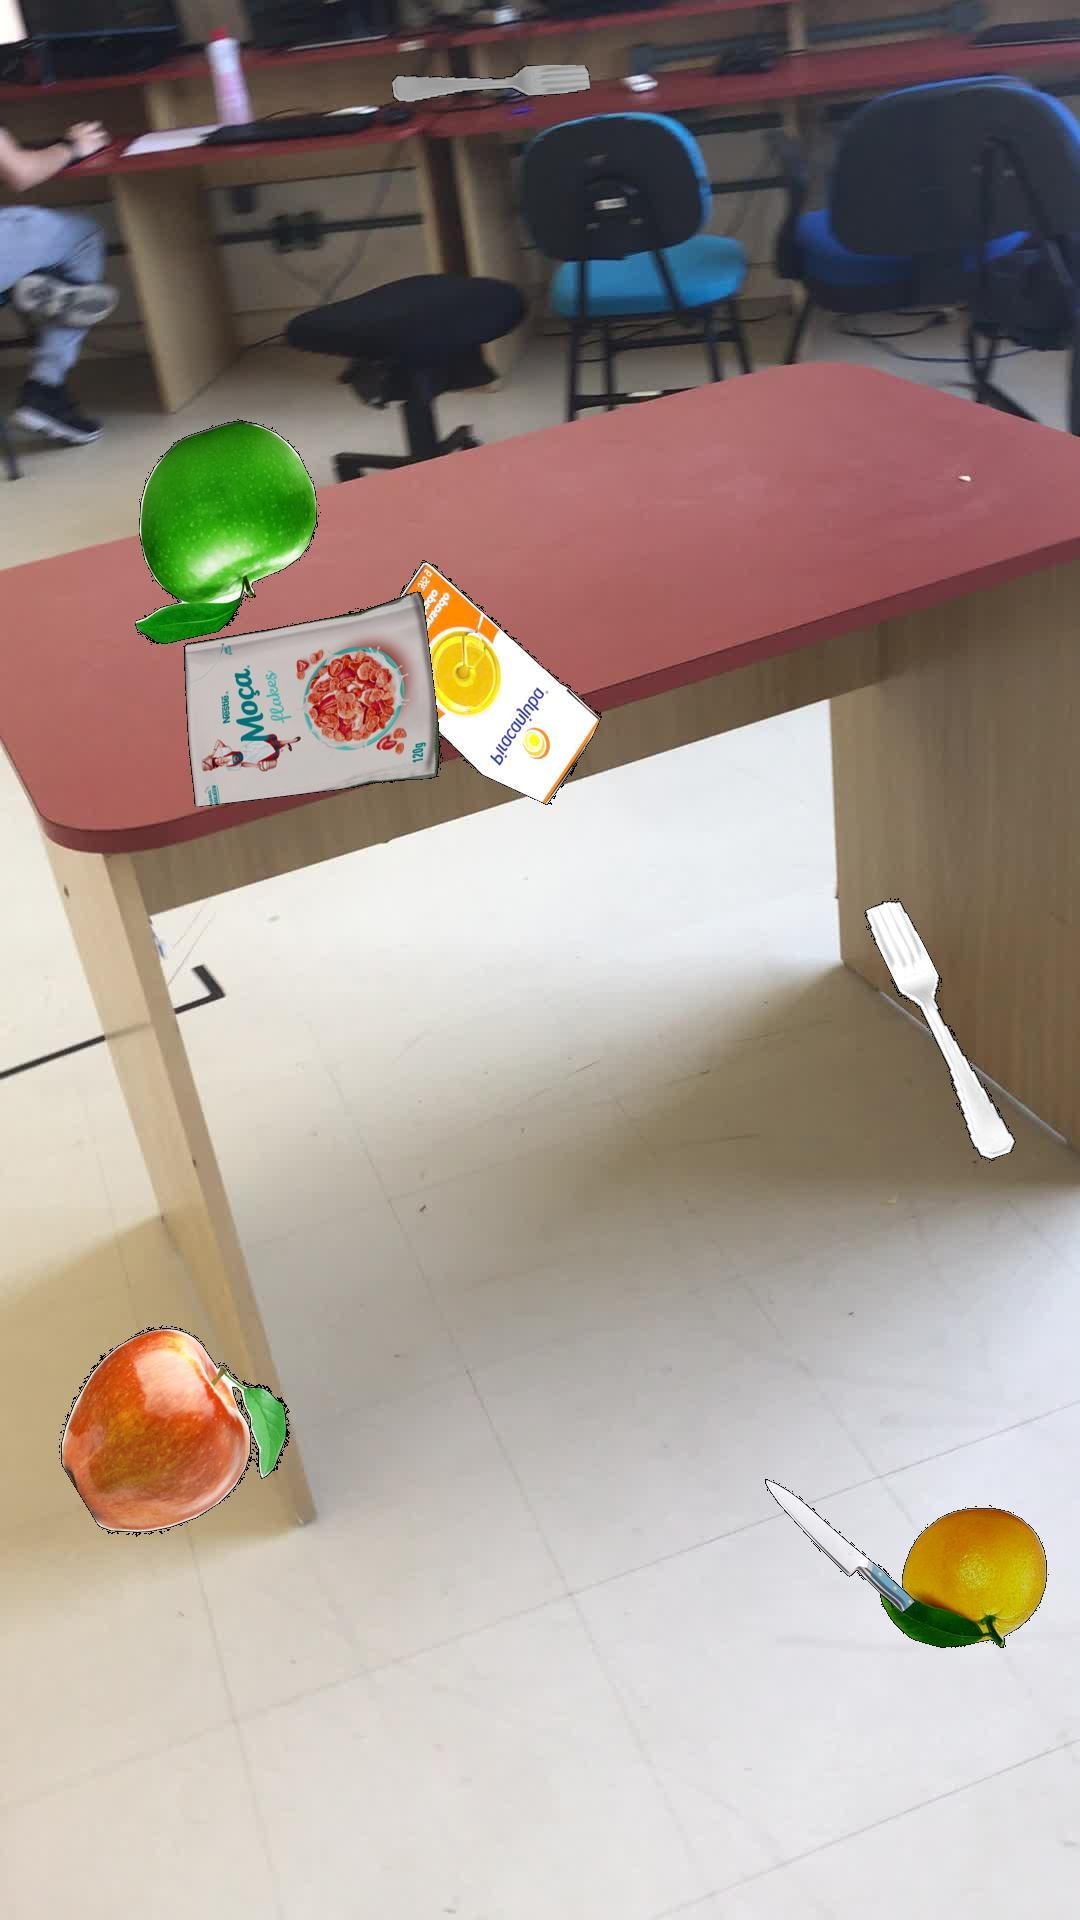apple: (59, 1324, 289, 1535)
corn flakes: (182, 589, 439, 806)
fork: (864, 899, 1014, 1159), (390, 63, 588, 100)
green apple: (133, 418, 316, 642)
knife: (764, 1477, 914, 1611)
orange: (878, 1506, 1046, 1647)
